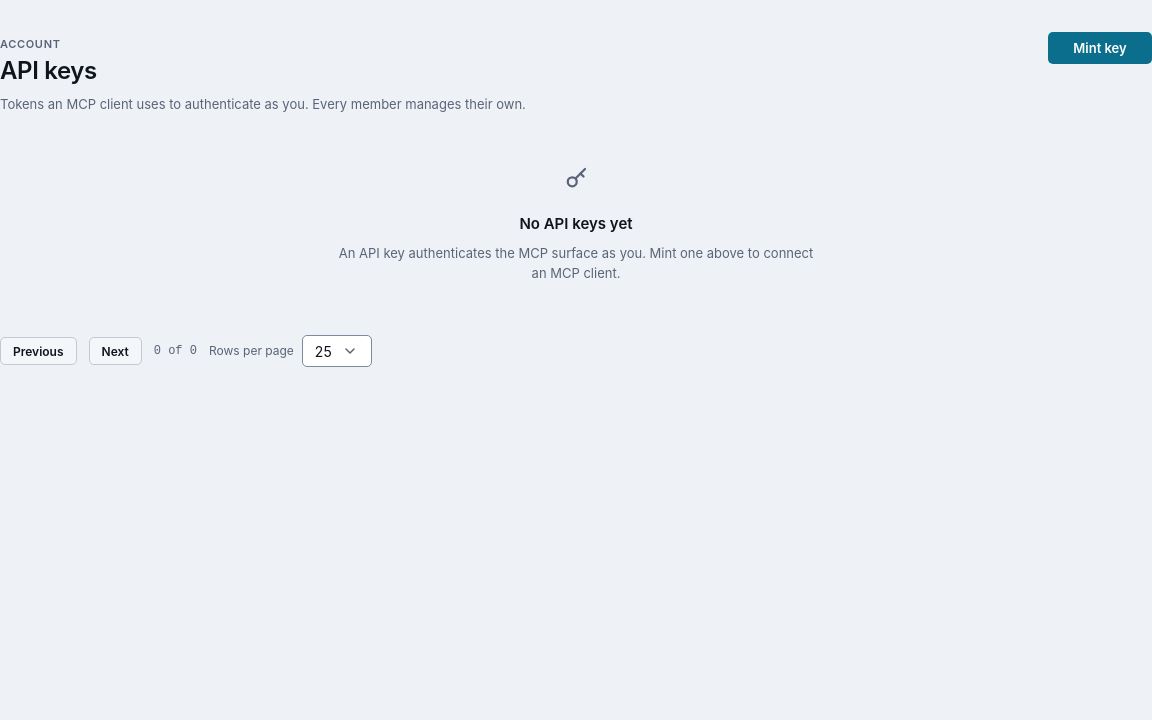
Test case: ApiKeysPage › refuses an expiry that is not in the future before any request is sent
Expected: the text "No API keys yet" is shown, left=519, top=212, right=633, bottom=235
Click the button "Mint key": (1100, 48) left=1048, top=32, right=1151, bottom=64
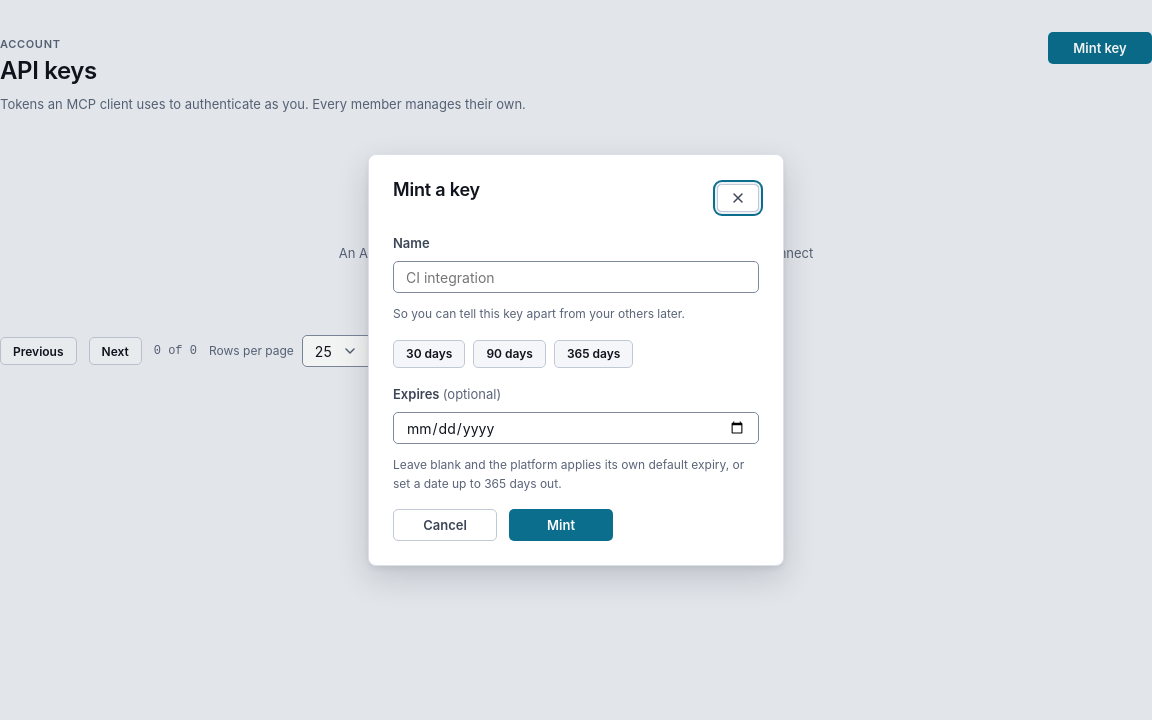
In the field labelled "Name": (576, 277) left=393, top=261, right=759, bottom=293, type "Local dev"
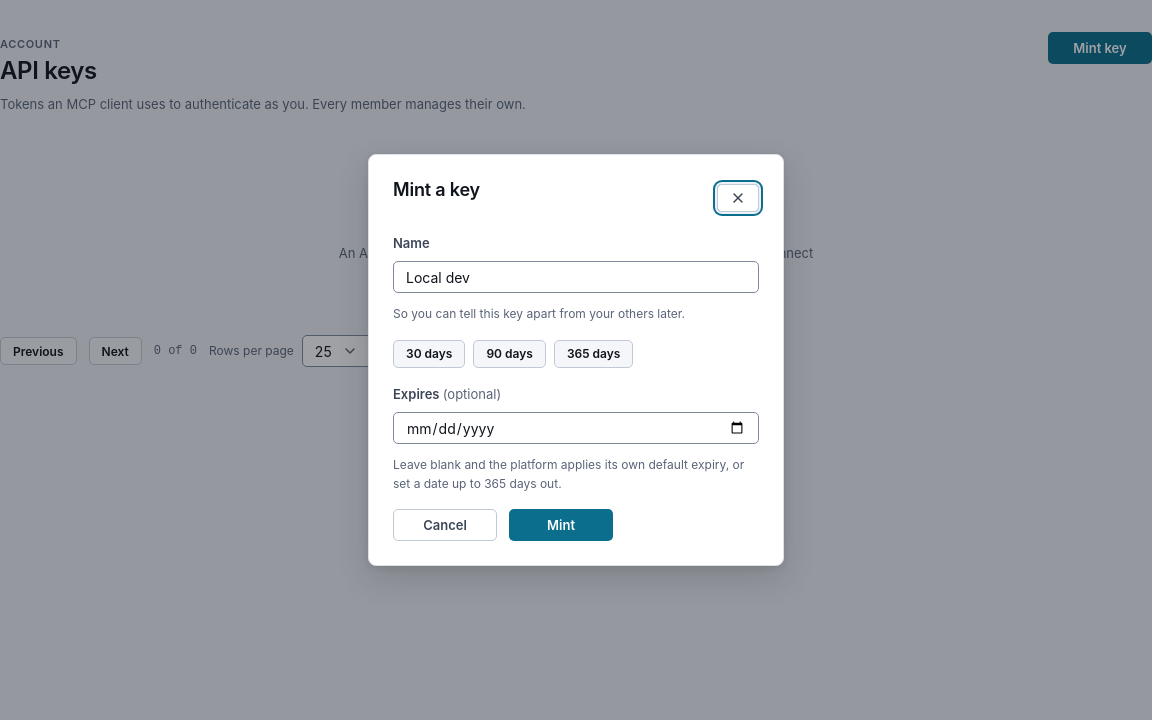
In the date field labelled "Expires (optional)": (576, 428) left=393, top=412, right=759, bottom=444, type "2020-01-01"
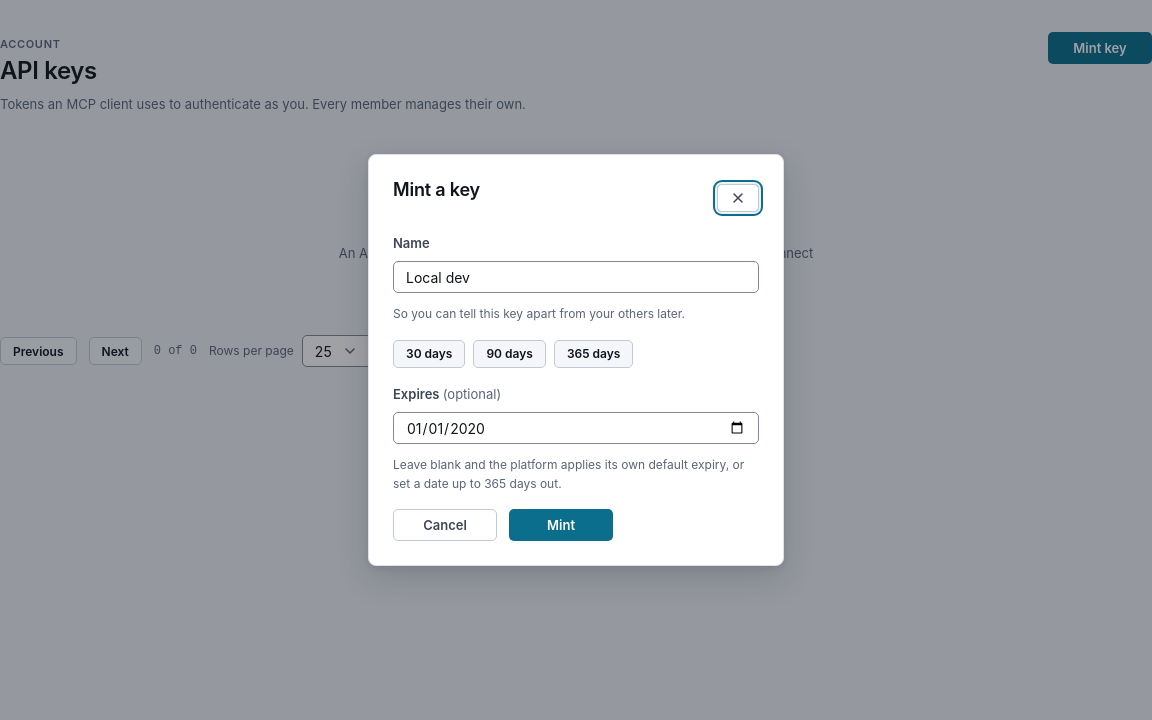
Click the button "Mint": (561, 525) left=509, top=509, right=613, bottom=541
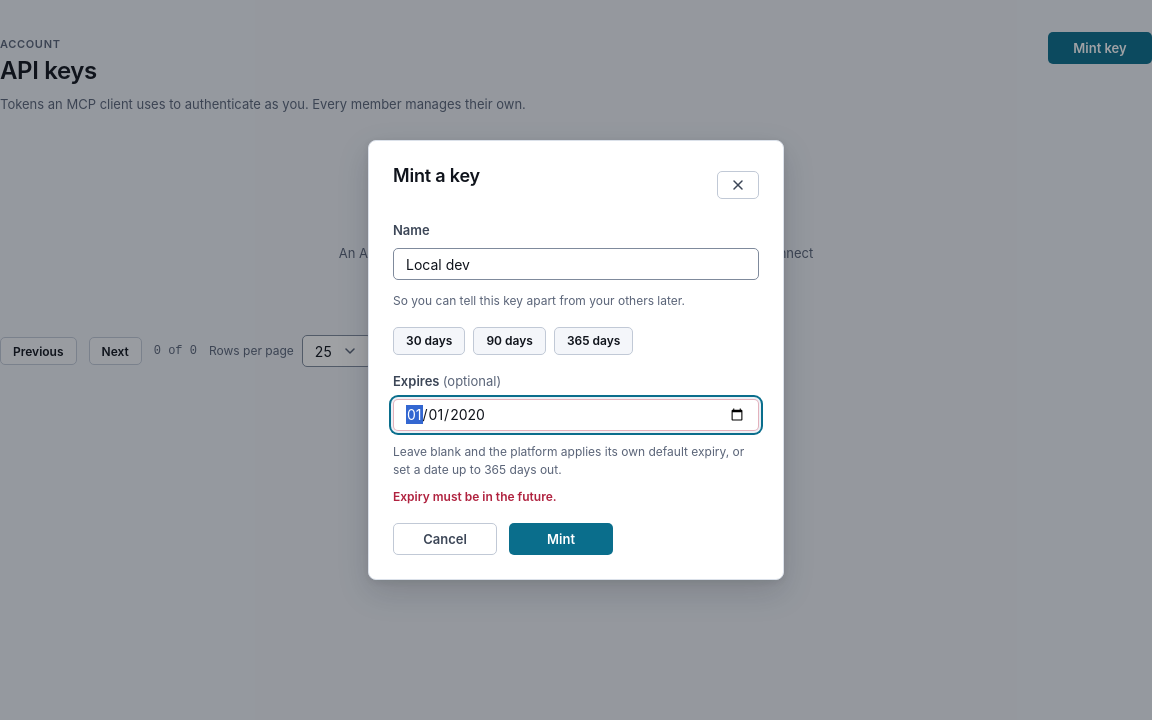
Result: the text "Expiry must be in the future." is shown at left=392, top=488, right=557, bottom=504
